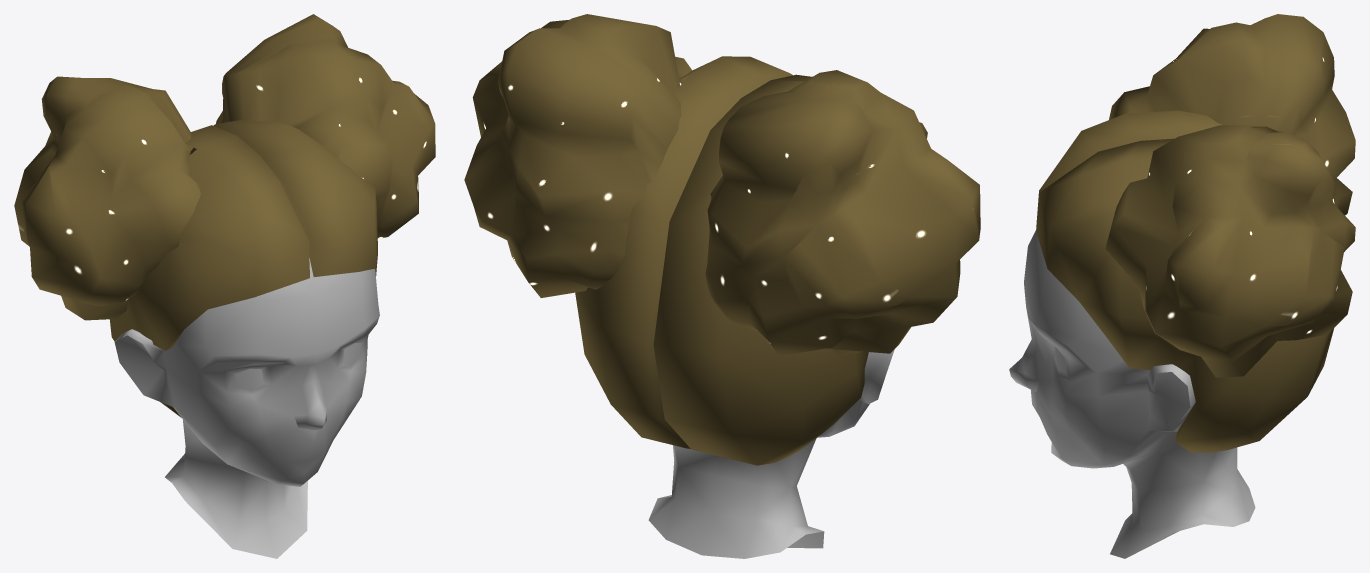
Rendered from doki-space-buns.glb.
3 views of the same model, side by side, from view 1: azimuth 30°, elevation 25°; view 2: azimuth 150°, elevation 25°; view 3: azimuth 270°, elevation 25° (orthographic). The views are drawn at different scales.
Visible parts, largest first — view 1: Space Buns, Head_BaseMesh; view 2: Space Buns, Head_BaseMesh; view 3: Space Buns, Head_BaseMesh.
Part boxes in pixels (x1,y1,x2,y2): Space Buns: (14,14,435,417); Head_BaseMesh: (114,258,379,558); Space Buns: (464,14,980,465); Head_BaseMesh: (648,349,894,558); Space Buns: (1036,14,1355,452); Head_BaseMesh: (1009,230,1255,558).
Bounding box in the file's own units: 0.992 × 1.05 × 0.6934.
2 materials, 2 textured.
